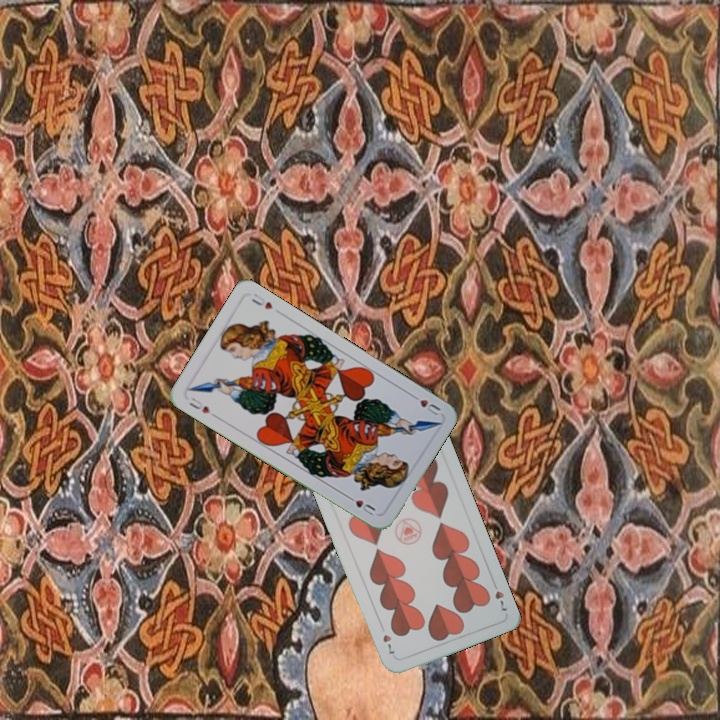H7: (488, 576, 510, 614)
HU: (407, 390, 443, 418), (185, 393, 213, 416)
